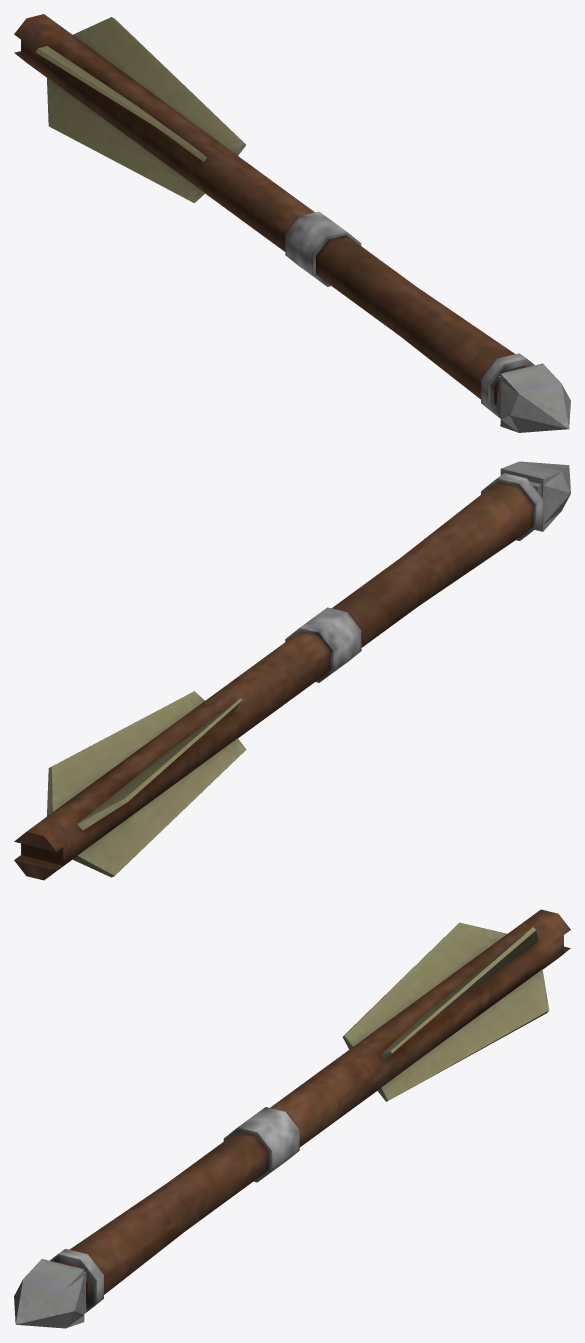
File: bolt_particle.glb
The picture shows the model from 3 angles, top to bottom: view 1: azimuth 30°, elevation 25°; view 2: azimuth 150°, elevation 25°; view 3: azimuth 330°, elevation 25°; orthographic projection.
Visible parts, largest first — view 1: Boltunwrapped; view 2: Boltunwrapped; view 3: Boltunwrapped.
Part boxes in pixels (x1,y1,x2,y2): Boltunwrapped: [14, 14, 570, 432]; Boltunwrapped: [14, 461, 570, 880]; Boltunwrapped: [14, 909, 570, 1328].
Bounding box in the file's own units: 0.03 × 0.03 × 0.3016.
Materials: 1 (1 with a texture image).
